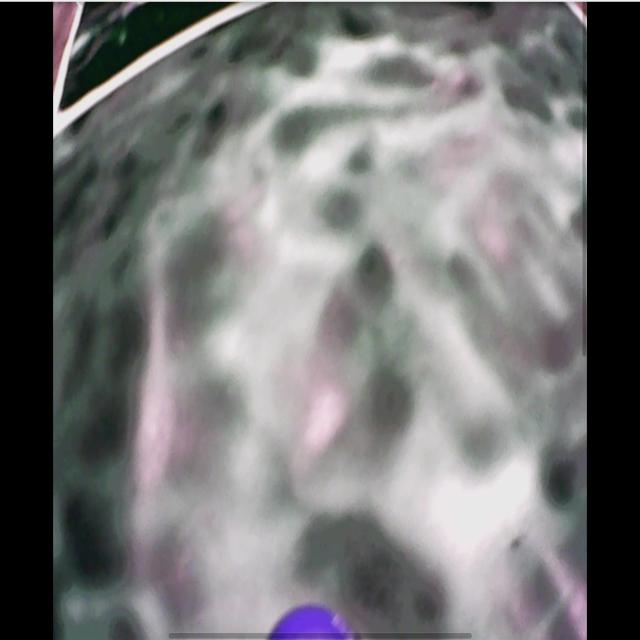ball: (267, 605, 361, 640)
